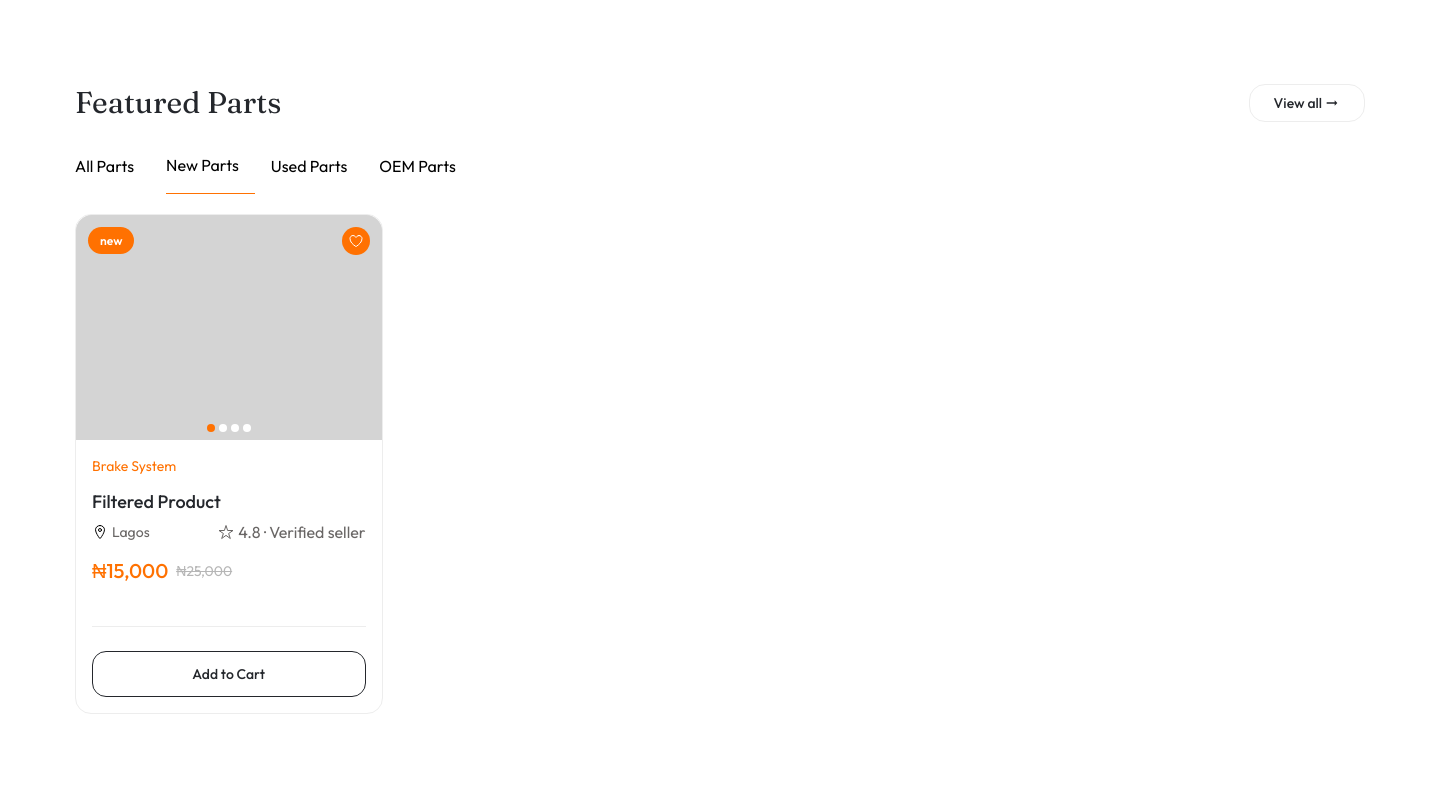
it: Products › resets back to all products when All Parts is clicked
Check: the heading "Filtered Product" is shown, box [92,490,221,513]
Click the button "All Parts" at (113, 174), box [75,153,150,194]
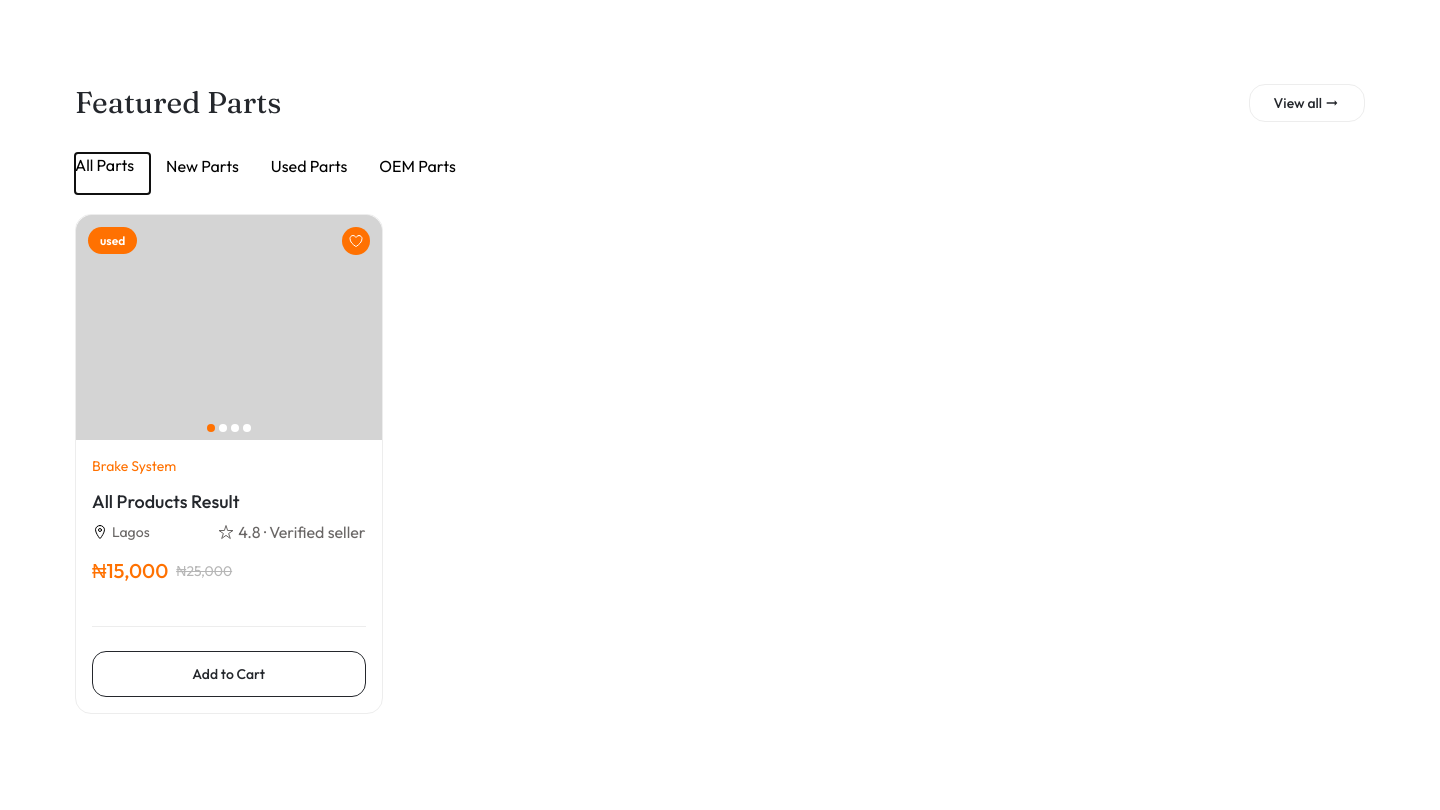
Check: the heading "All Products Result" is shown, box [92,490,239,513]
